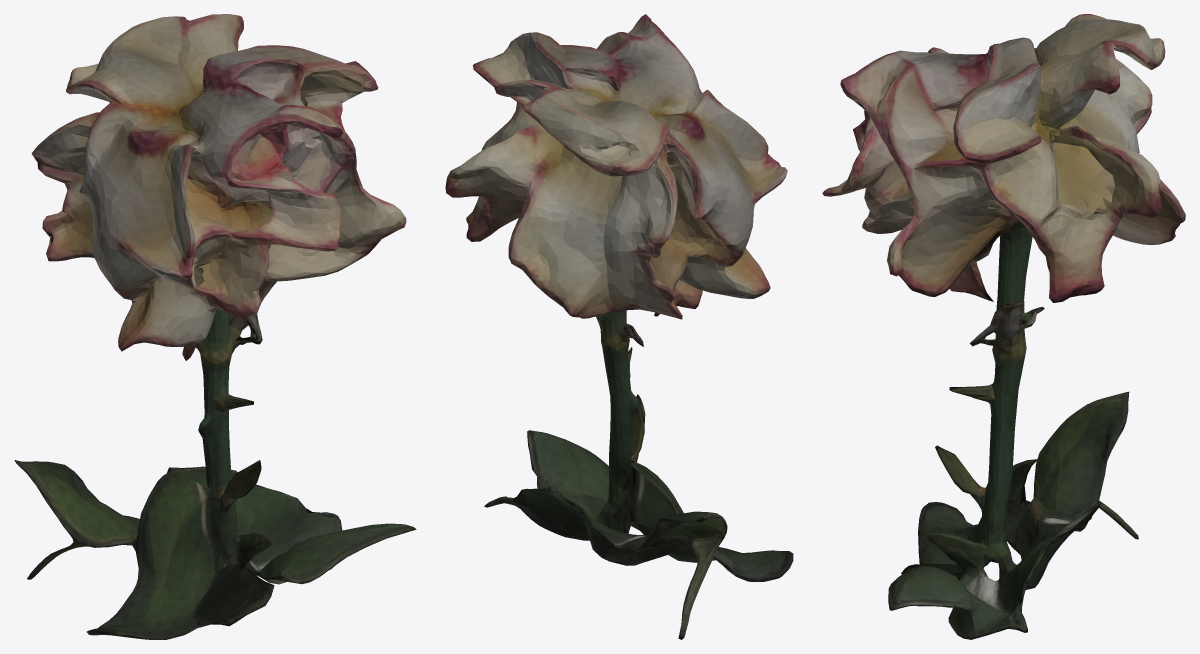
3 renders of one model, left to right at view 1: azimuth 30°, elevation 25°; view 2: azimuth 150°, elevation 25°; view 3: azimuth 270°, elevation 25°, orthographic. The views are drawn at different scales.
Visible parts, largest first — view 1: world; view 2: world; view 3: world.
Part boxes in pixels (bbox=[...]): world: bbox=[14, 14, 416, 639]; world: bbox=[445, 14, 793, 639]; world: bbox=[822, 14, 1185, 639].
Size of the model in its own units: 0.5563 by 0.937 by 0.5359.
1 material, 1 textured.
